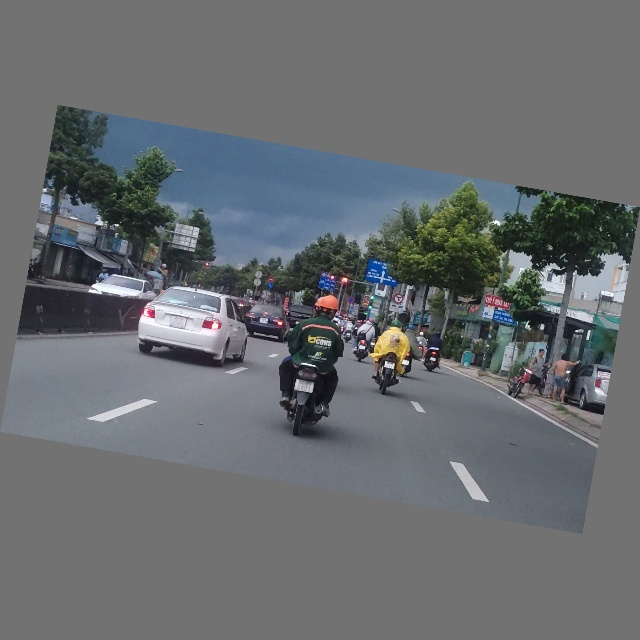P.137: (393, 294, 404, 305)
R.415a: (318, 277, 336, 292)
